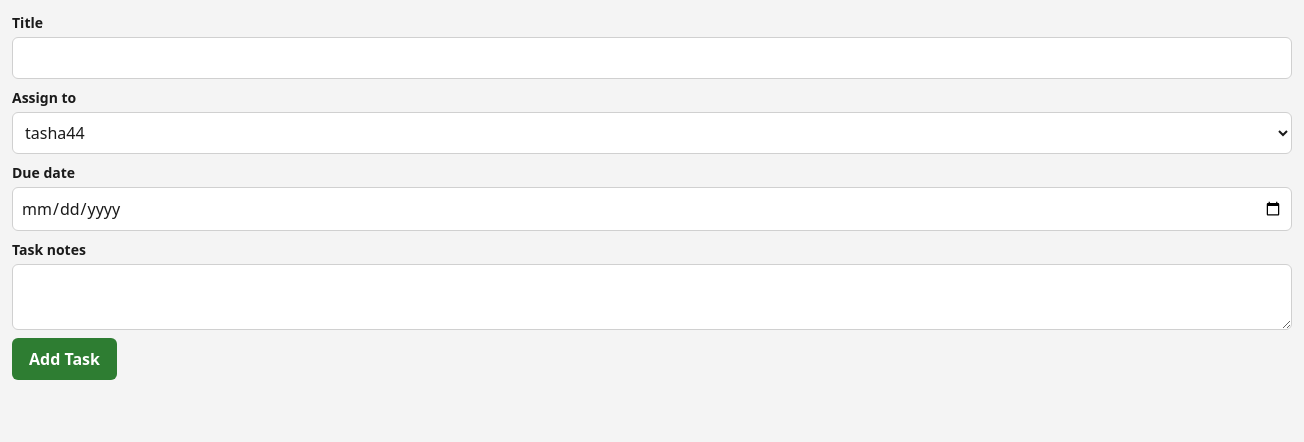
TaskForm: failure › shows "Due date cannot be left empty" and keeps what you typed
Type "Keep me" into the field labelled "Title" at (652, 58), box [12,37,1292,79]
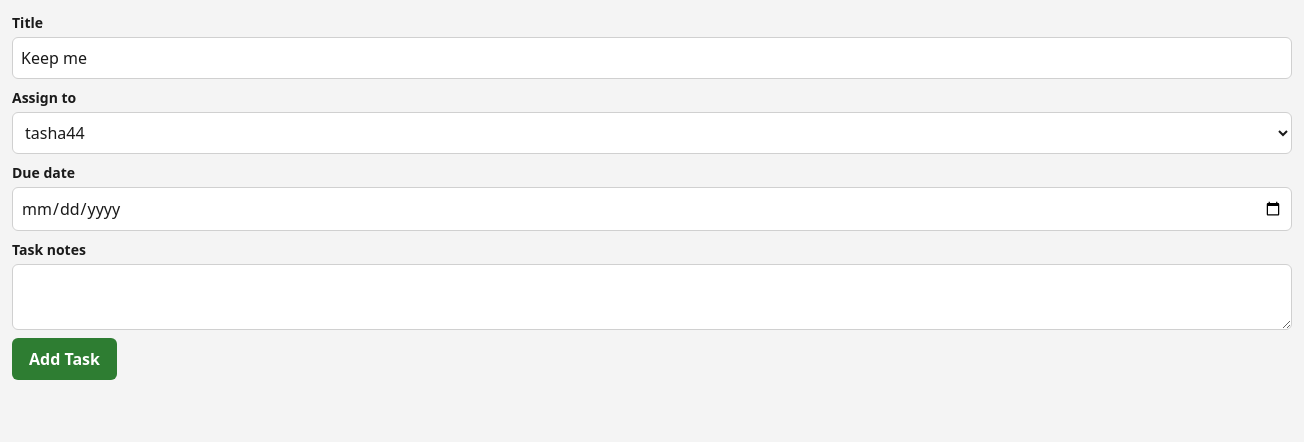
Type "Me too" into the text box labelled "Task notes" at (652, 297), box [12,264,1292,330]
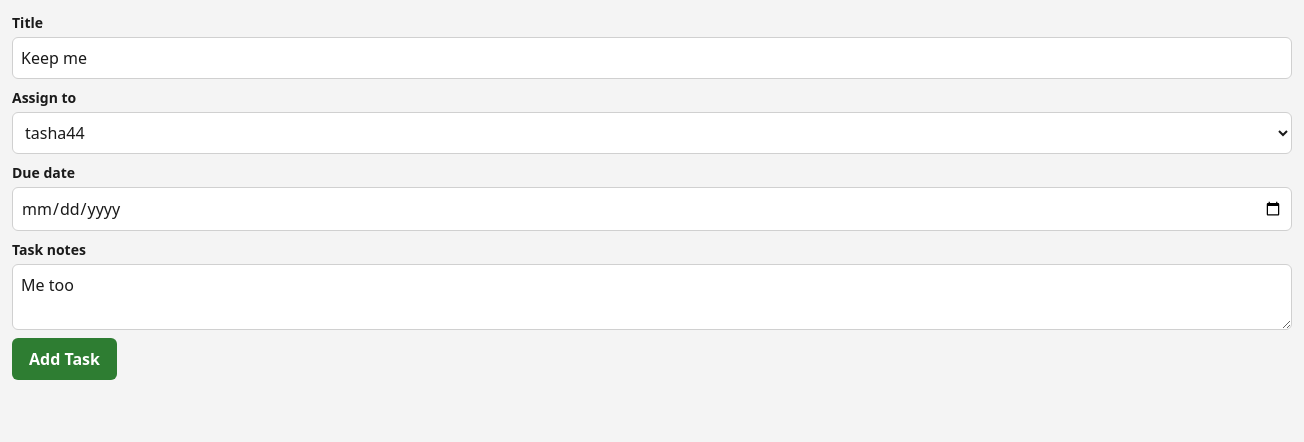
Click the button "Add Task" at (64, 359), box [12,338,117,380]
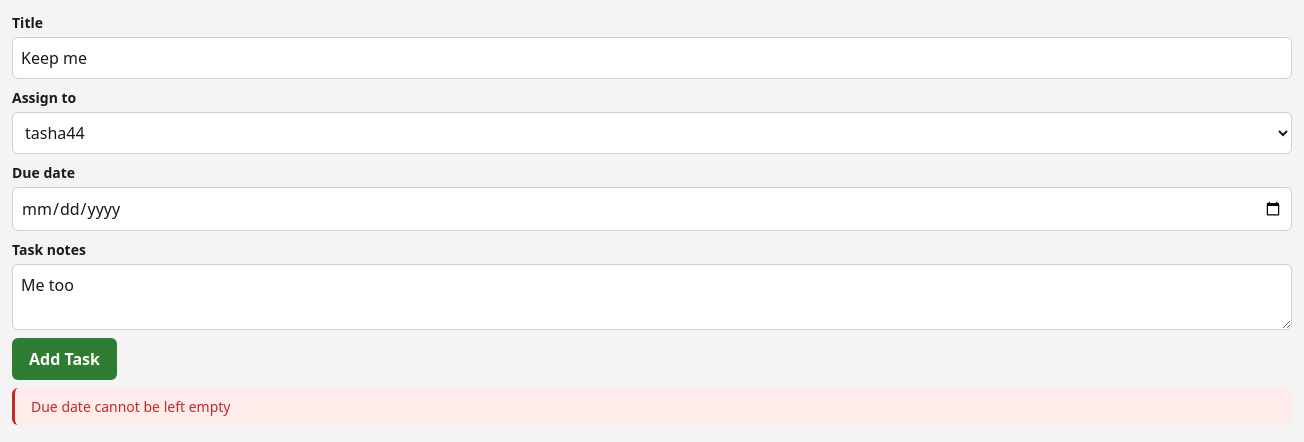
Expected: the list item "Due date cannot be left empty" is shown, [31,397,230,416]
